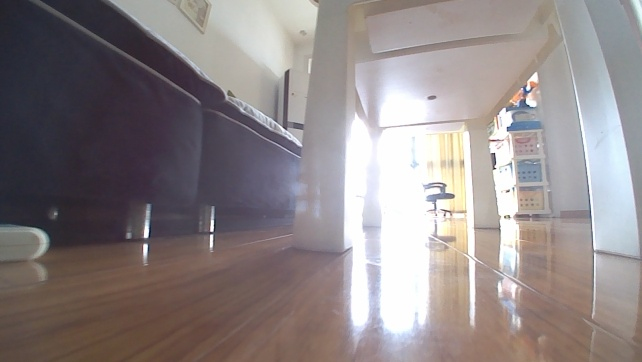sofa1: (0, 0, 301, 241)
tea_table1: (289, 0, 641, 263)
